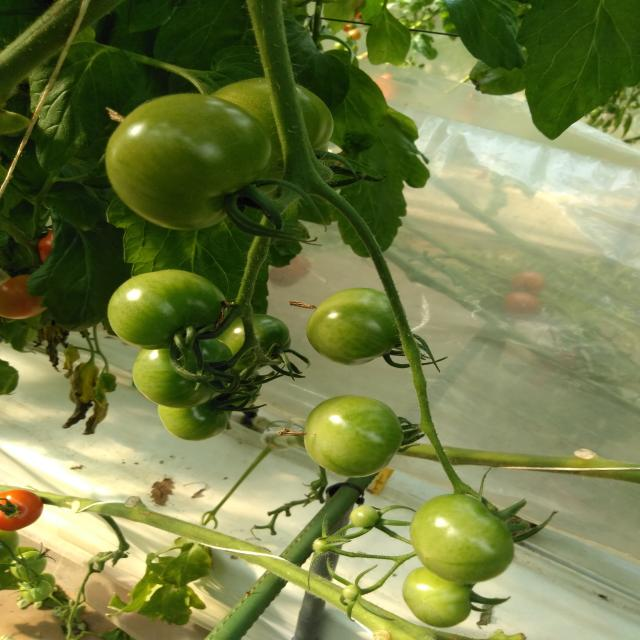yesil: (256, 280, 458, 488), (109, 77, 279, 300)
